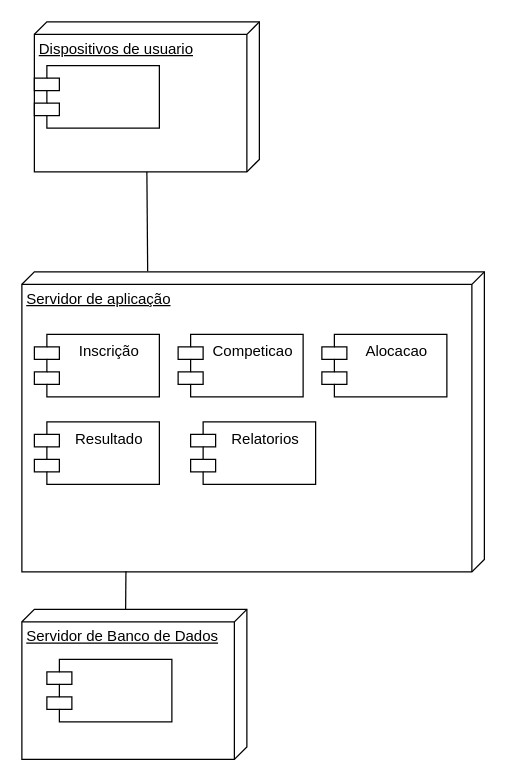
Some shapes in this 506 by 781 pixel diagram are drawn without their labels. Each missing label, with the centre of its shape:
"Navegador Web" goes at [96,96].
"SGBD" goes at [109,690].
